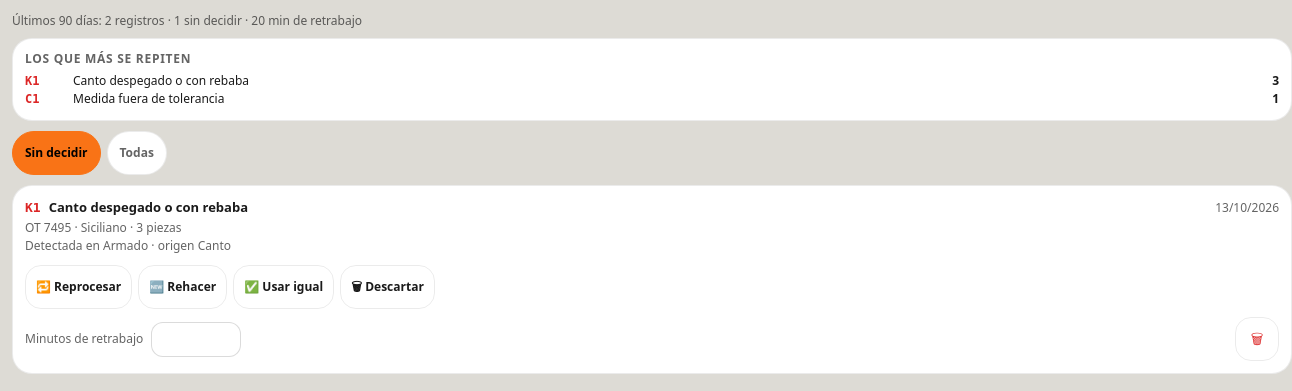
no conformes — el encargado decide y ve los defectos que más se repiten
Check: the text "1 sin decidir" is shown, box [12, 12, 362, 29]
Check: the text "20 min de retrabajo" is shown, box [242, 12, 362, 29]
Type "15" into the field labelled "Minutos de retrabajo" at coordinates (196, 339), box [151, 322, 241, 357]
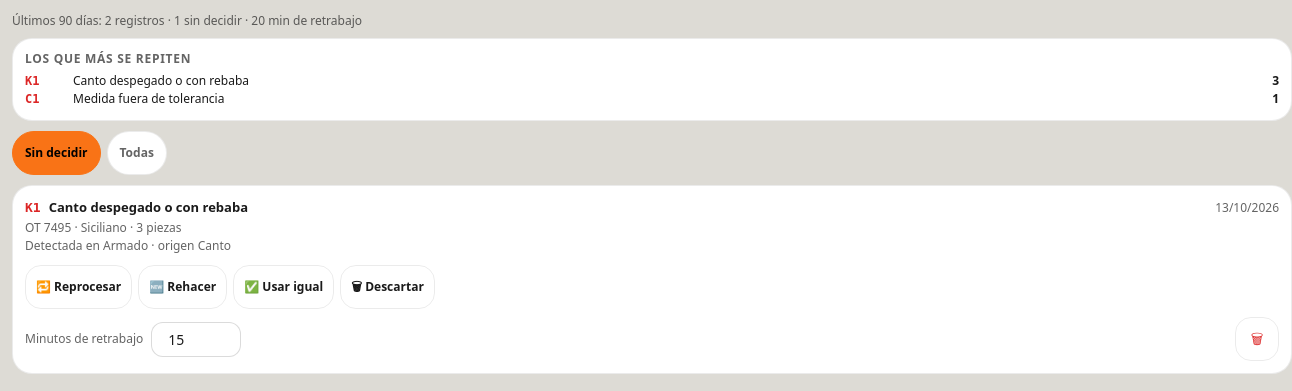
Click the button "🔁 Reprocesar" at coordinates (79, 287), box [25, 265, 132, 309]
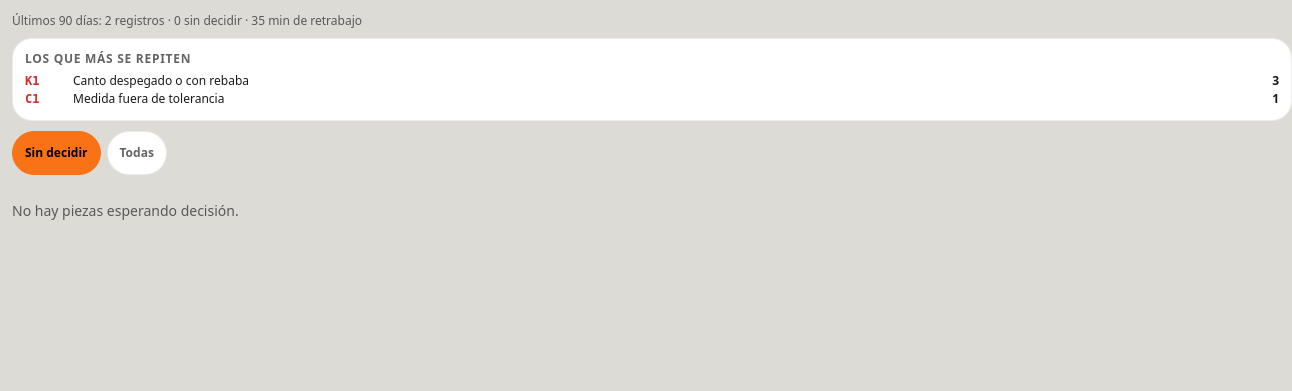
Check: the text "No hay piezas esperando decisión." is shown, box [12, 201, 239, 220]
